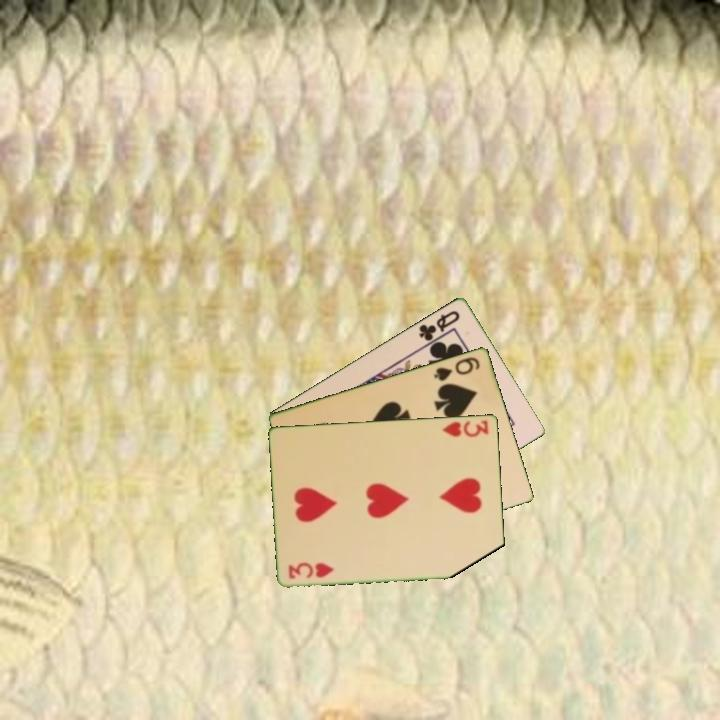3h: (439, 417, 492, 439), (285, 559, 337, 581)
6s: (430, 353, 483, 384)
Qc: (415, 306, 463, 344)
